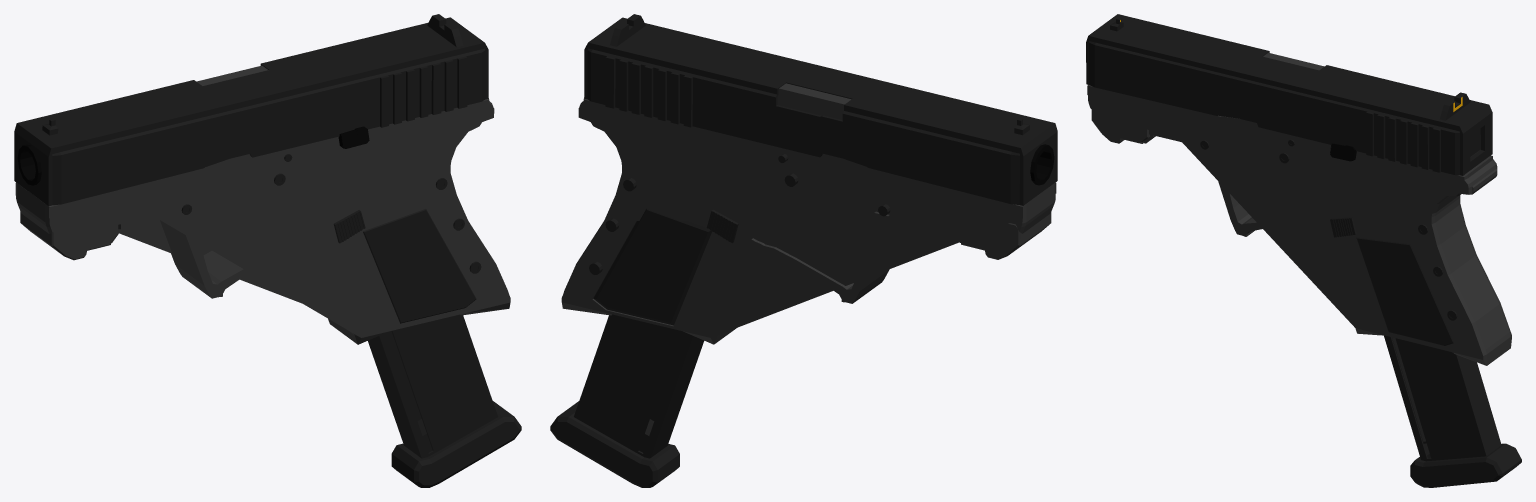
Rendered from Hornet.fbx.
3 views of the same model, side by side, from view 1: azimuth 30°, elevation 25°; view 2: azimuth 150°, elevation 25°; view 3: azimuth 330°, elevation 25° (orthographic). The views are drawn at different scales.
Visible parts, largest first — view 1: Body, Slide, Magazine, Iron Sights, Mag Eject; view 2: Body, Slide, Magazine, Slide Cover, Iron Sights, Mag Eject; view 3: Body, Slide, Magazine, Iron Sights.
Part boxes in pixels (x1,y1,x2,y2): Body: (15, 98, 510, 344); Slide: (14, 17, 488, 205); Magazine: (368, 314, 521, 487); Iron Sights: (42, 14, 463, 135); Mag Eject: (333, 210, 365, 243); Body: (561, 97, 1056, 344); Slide: (584, 17, 1057, 205); Magazine: (550, 314, 703, 487); Slide Cover: (777, 83, 851, 119); Iron Sights: (610, 14, 1029, 135); Mag Eject: (706, 209, 738, 243); Body: (1087, 84, 1511, 365); Slide: (1086, 14, 1492, 175); Magazine: (1384, 335, 1521, 487); Iron Sights: (1110, 18, 1470, 120).
Size of the model in its own units: 1503 by 1344 by 231.
